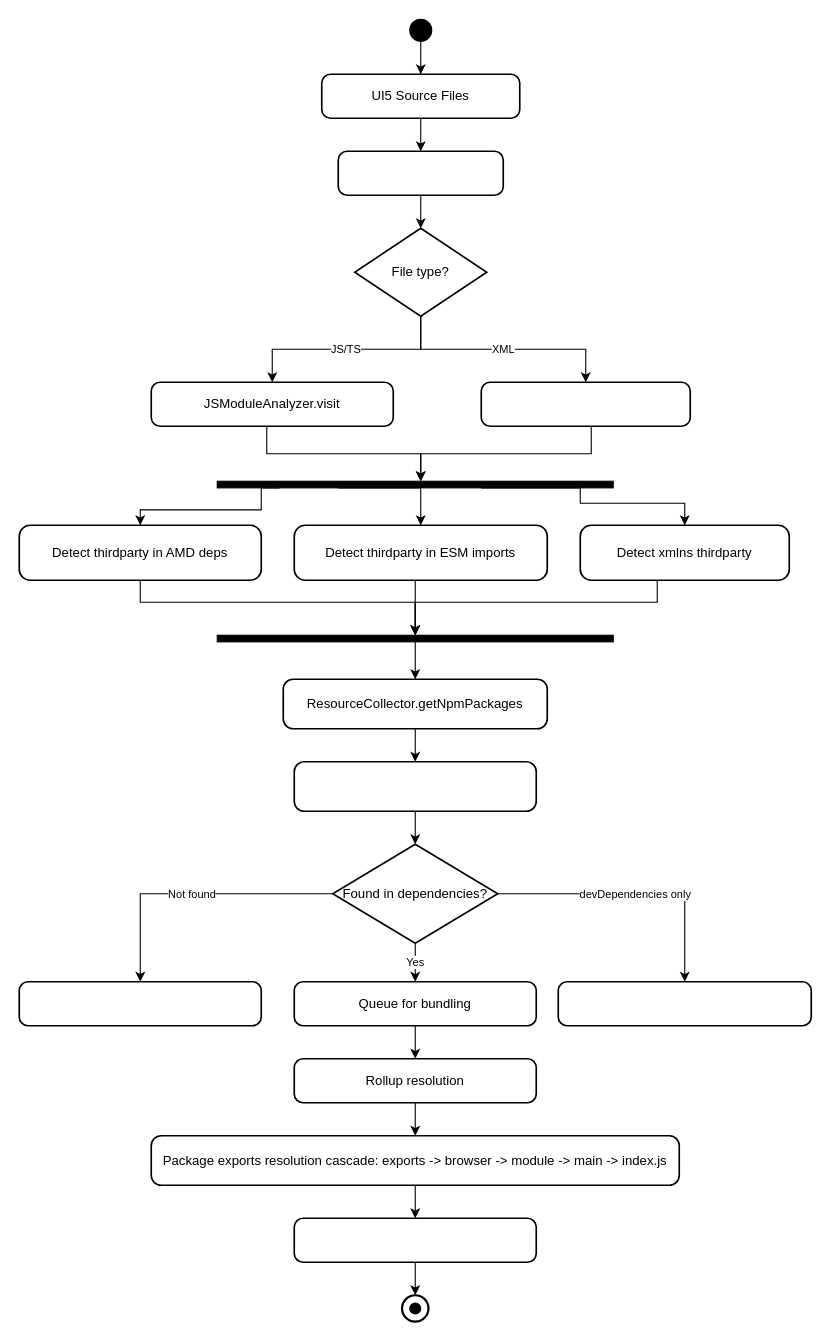
The diagram is 832 pixels wide and 1342 high, and some of its shapes have lost their labels. The centre of each missing label's shape, as x and y in pixels:
"Entry point resolved" belongs at point (415, 1240).
"Error: package not declared" belongs at point (140, 1003).
"espree.parse" belongs at point (420, 173).
"Validate against package.json" belongs at point (415, 786).
"Warn: move to dependencies" belongs at point (684, 1003).
"XMLTemplateAnalyzer" belongs at point (585, 404).
